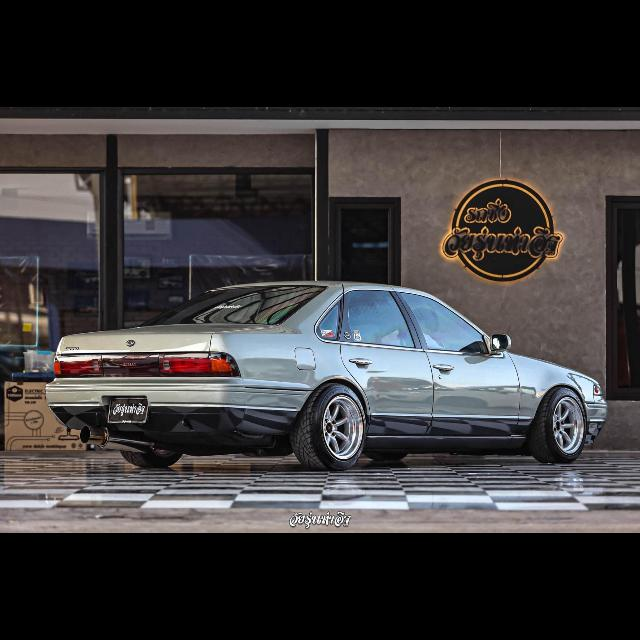cars: (42, 271, 614, 479)
